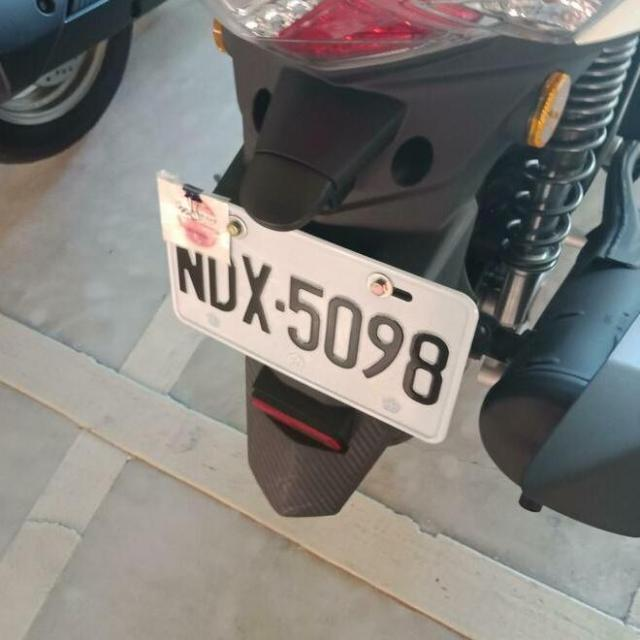W: (140, 182, 496, 444)
